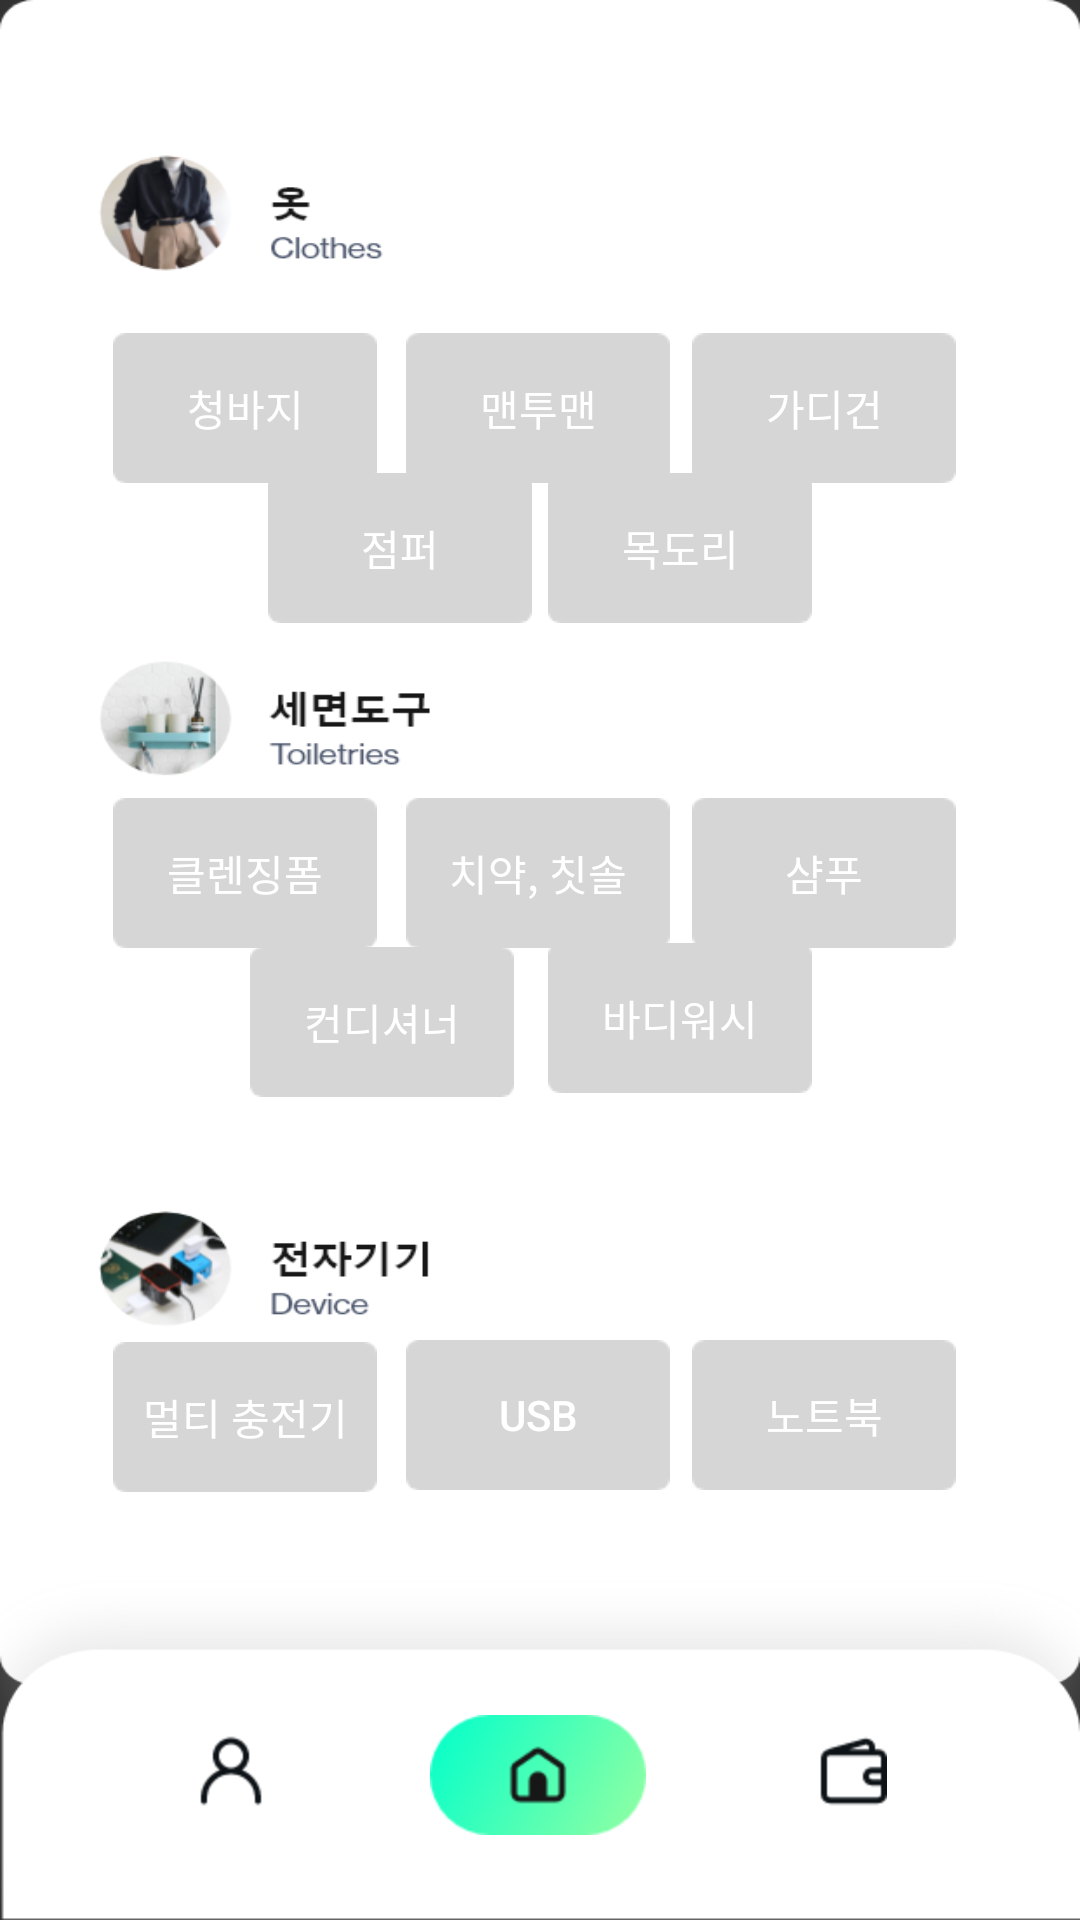

Named icons in this screenshot (1080×1920) and their bounding boxes, [x1=x1, y1=y1, x2=x2, y2=y2]:
wallet: [x1=820, y1=1737, x2=887, y2=1805]
